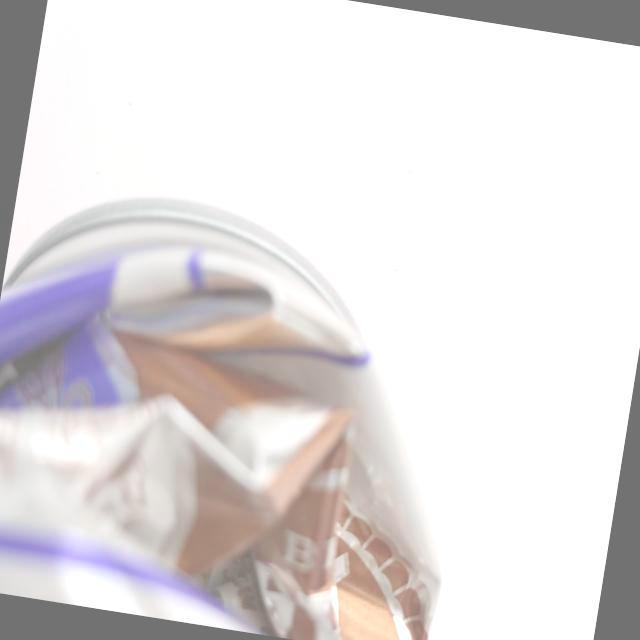metal: (0, 137, 519, 640)
